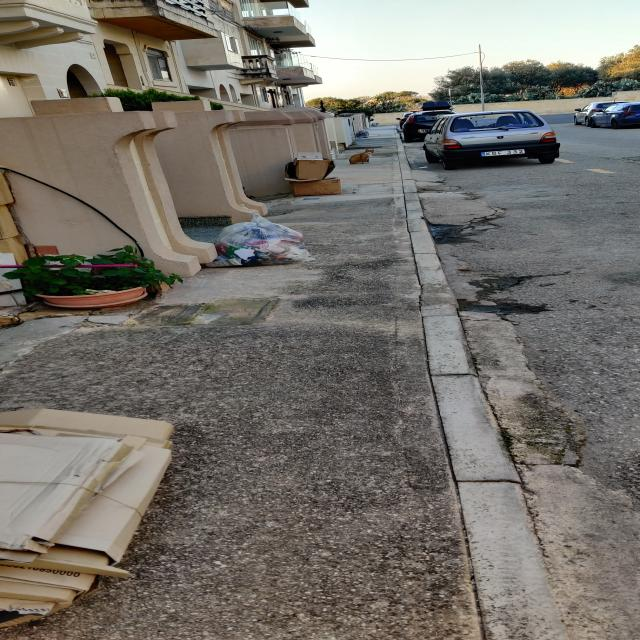Others Waste: (283, 153, 343, 197)
Recyclable Material -Grey Bags-: (204, 214, 317, 269), (355, 129, 369, 138), (370, 122, 379, 127)
